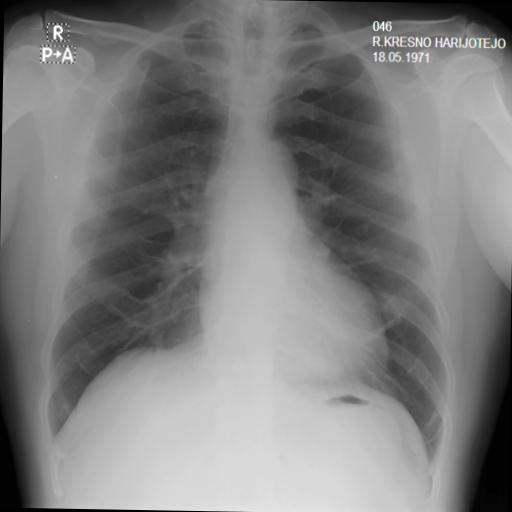kardiomegali: (39, 0, 463, 475)
